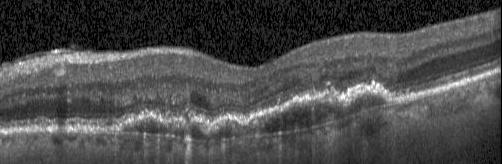intraretinal_cyst: (190, 91, 211, 109)
retinal_drusen: (261, 103, 342, 133), (123, 116, 175, 134), (347, 94, 387, 114), (212, 120, 256, 138), (175, 123, 205, 138)
